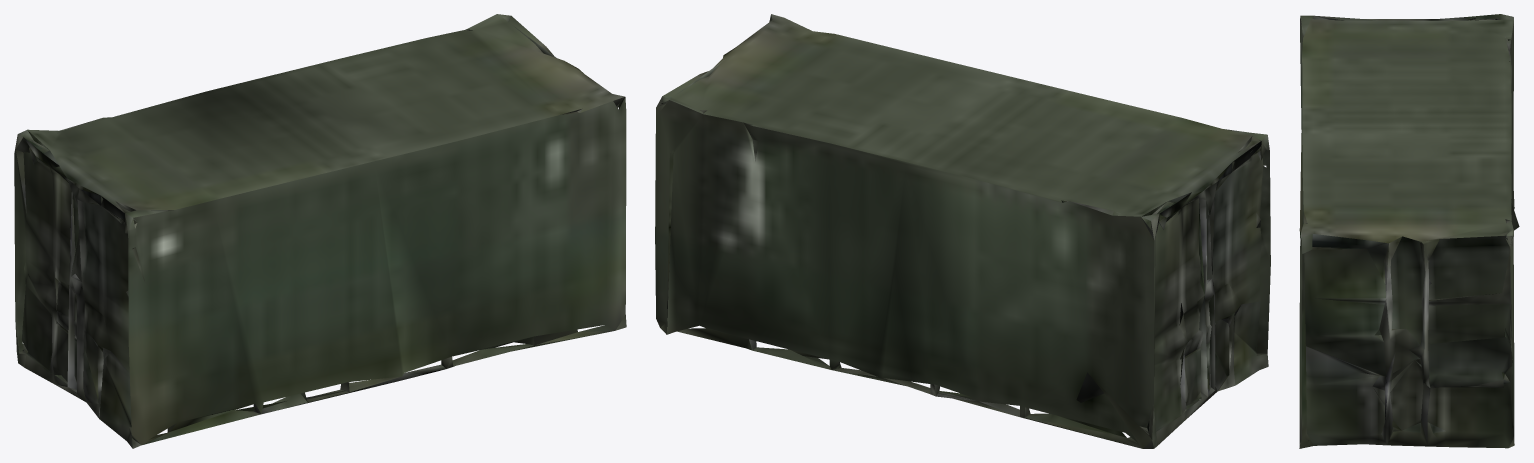
The model's file is container_273409974_lod0m.glb.
3 renders of one model, left to right at view 1: azimuth 30°, elevation 25°; view 2: azimuth 150°, elevation 25°; view 3: azimuth 270°, elevation 25°, orthographic. The views are drawn at different scales.
Bounding box in the file's own units: 6 × 2.69 × 2.49.
1 material, 1 textured.
